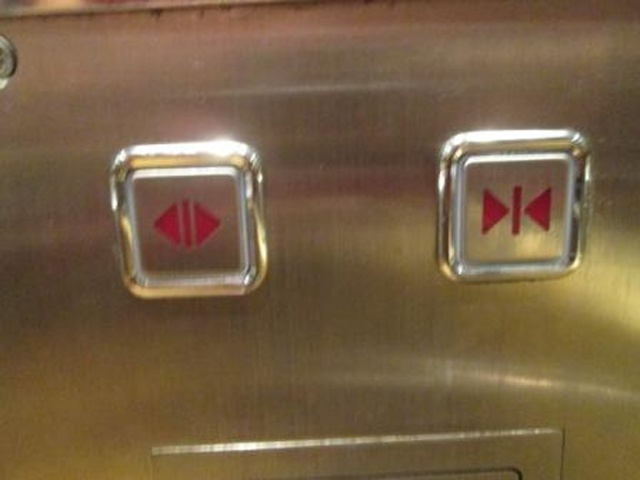close: (435, 126, 588, 287)
open: (108, 140, 270, 303)
